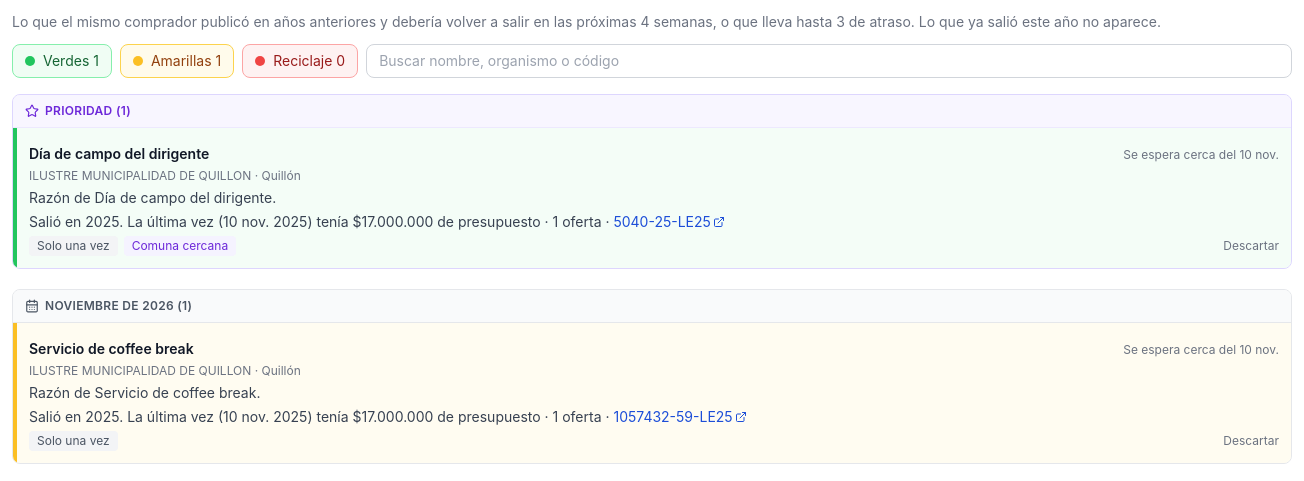
Test: Se viene con el semáforo › se ven las verdes y amarillas; las rojas solo si se piden
The image size is (1304, 481).
expect the text "Día de campo del dirigente" is shown: met, box [29, 144, 209, 164]
expect the text "Servicio de coffee break" is shown: met, box [29, 339, 194, 359]
Type "insumos" into the field with placeholder "Buscar nombre, organismo o código" at {"x": 829, "y": 61}, box [366, 44, 1292, 78]
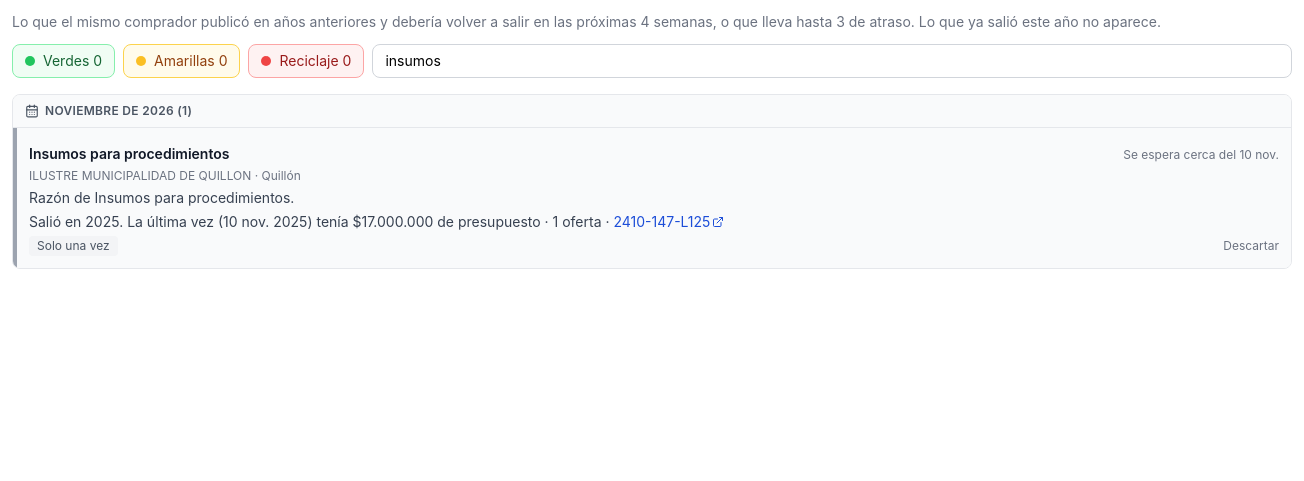
expect the text "Insumos para procedimientos" is shown: met, box [29, 144, 229, 164]
// El buscador: nombre, organismo o código.
Replace the text in the field with placeholder "Buscar nombre, organismo o código" with "coffee" at {"x": 832, "y": 61}, box [372, 44, 1292, 78]
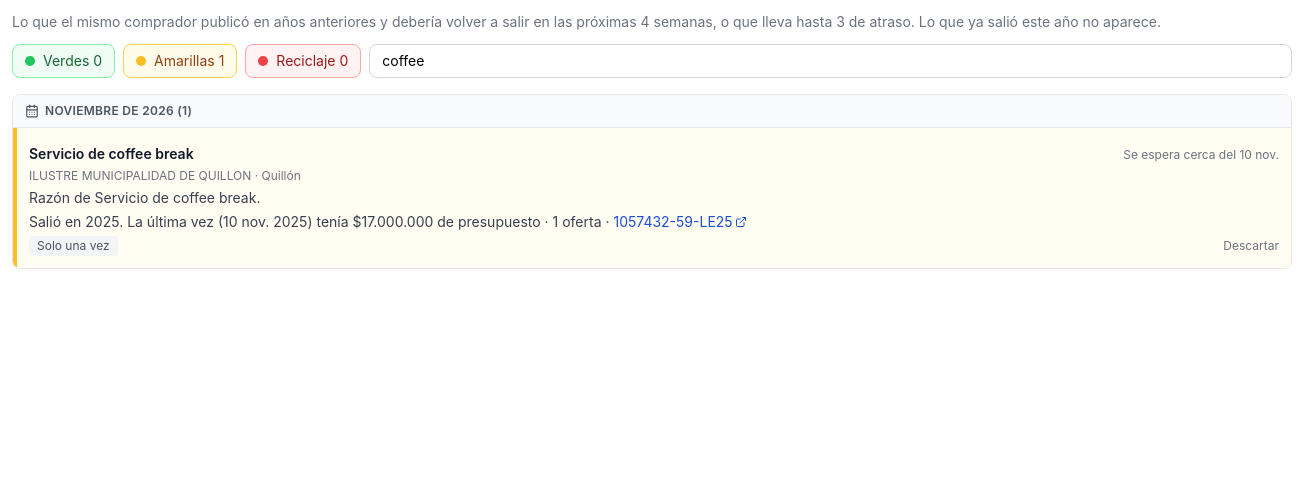
expect the text "Día de campo del dirigente" is not shown: met
expect the button "Verdes 0" is shown: met, box [12, 44, 115, 78]
expect the text "Servicio de coffee break" is shown: met, box [29, 144, 194, 164]
